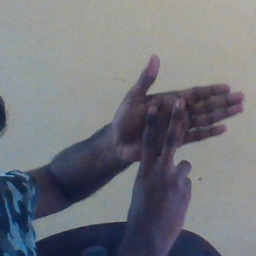N: (112, 51, 246, 211)
